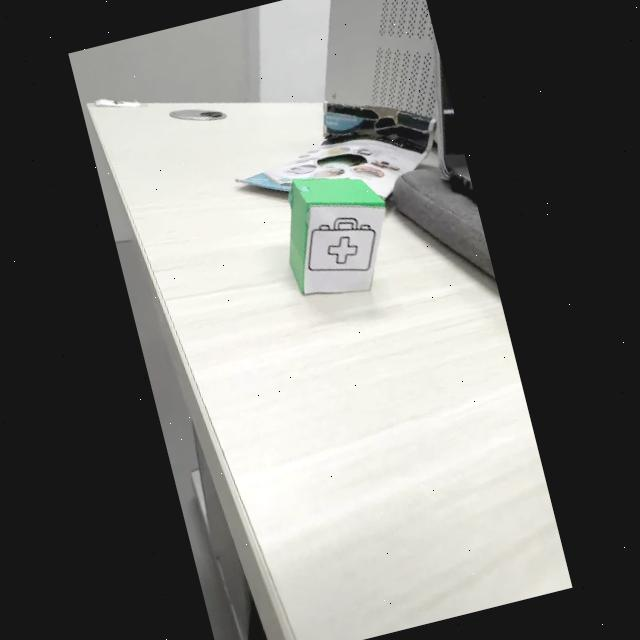Medkit: (308, 217, 376, 271)
